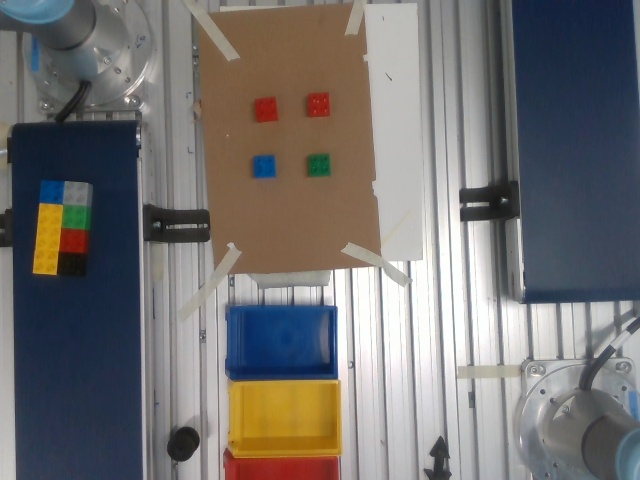duplo_4_blue: (245, 146, 290, 193)
duplo_4_red: (249, 92, 282, 133), (305, 92, 341, 122)
ignore: (298, 149, 349, 197)
